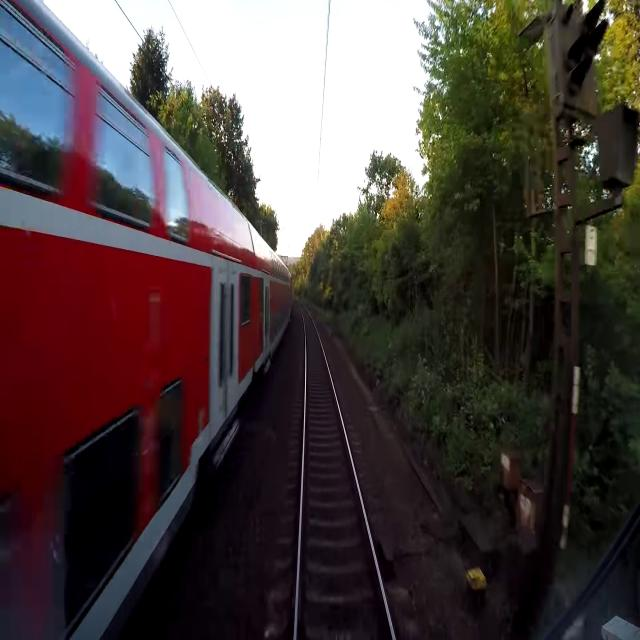rail-track: (296, 301, 391, 639)
